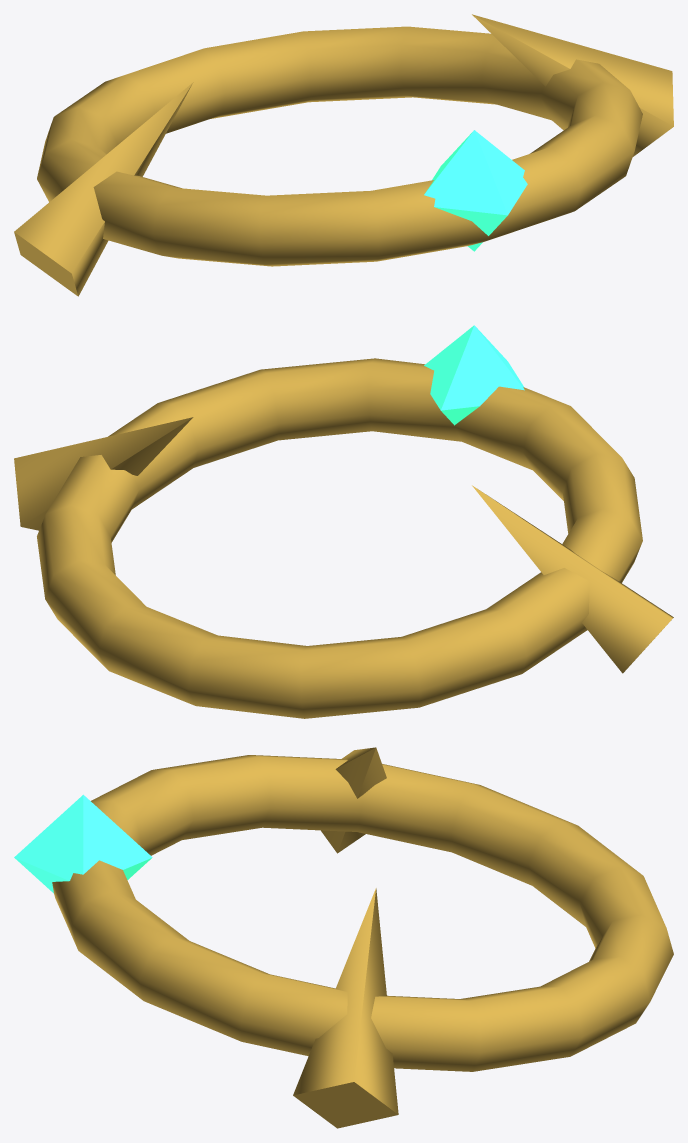
Rendered from elf_helmet_base.glb.
3 views of the same model, one above another, from view 1: azimuth 30°, elevation 25°; view 2: azimuth 150°, elevation 25°; view 3: azimuth 270°, elevation 25° (orthographic). The views are drawn at different scales.
Parts seen in each view (by area): view 1: circlet, circlet_leaf_-1, circlet_leaf_1, helmet_gem; view 2: circlet, circlet_leaf_-1, circlet_leaf_1, helmet_gem; view 3: circlet, circlet_leaf_1, helmet_gem, circlet_leaf_-1.
Part boxes in pixels (x1,y1,x2,y2): circlet: [37, 26, 642, 266]; circlet_leaf_-1: [14, 82, 193, 296]; circlet_leaf_1: [472, 14, 673, 156]; helmet_gem: [424, 130, 527, 251]; circlet: [37, 358, 642, 718]; circlet_leaf_-1: [472, 485, 673, 673]; circlet_leaf_1: [14, 417, 193, 530]; helmet_gem: [424, 325, 524, 425]; circlet: [52, 755, 673, 1071]; circlet_leaf_1: [293, 888, 398, 1128]; helmet_gem: [14, 794, 152, 893]; circlet_leaf_-1: [321, 747, 386, 853].
Size of the model in its own units: 0.5088 by 0.1406 by 0.4279.
